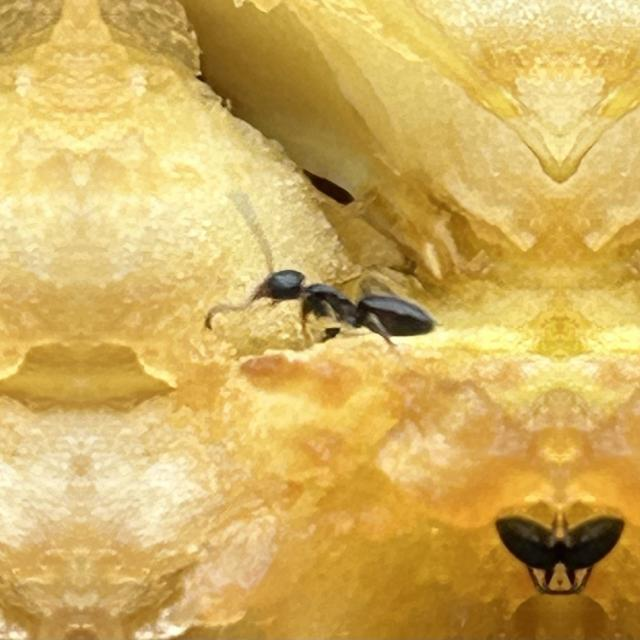Tapinoma: (233, 220, 444, 382), (562, 488, 636, 632), (484, 488, 556, 632)
